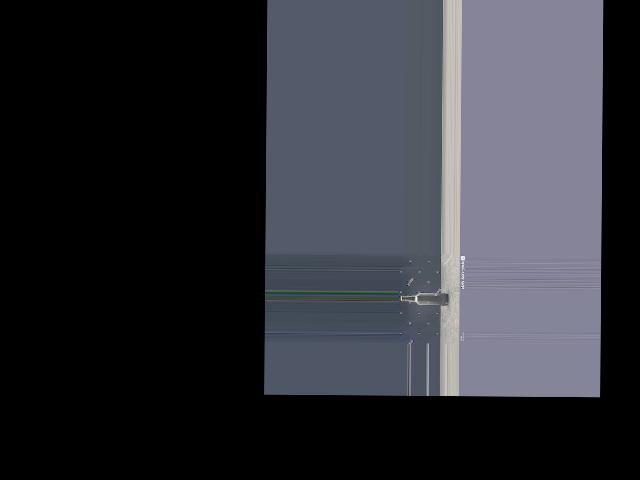beer: (401, 294, 448, 305)
